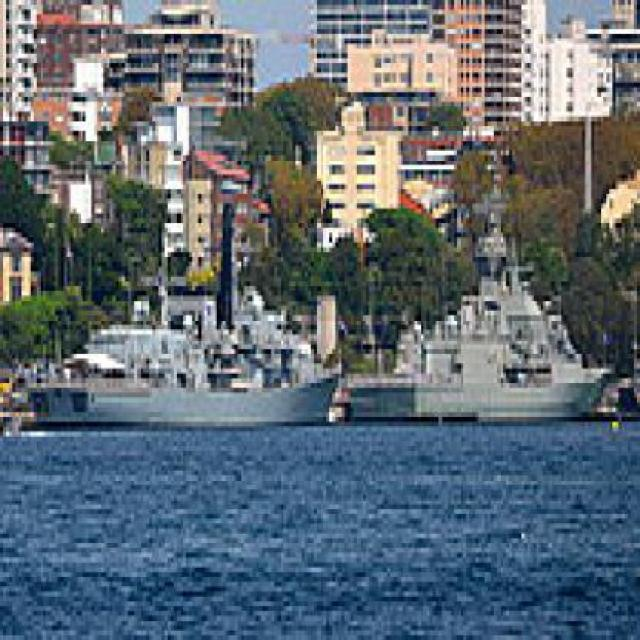warship2: (339, 156, 617, 437), (44, 248, 346, 432)
